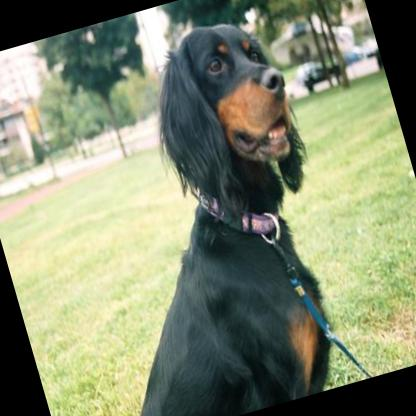Gordon_setter: (26, 5, 373, 416)
